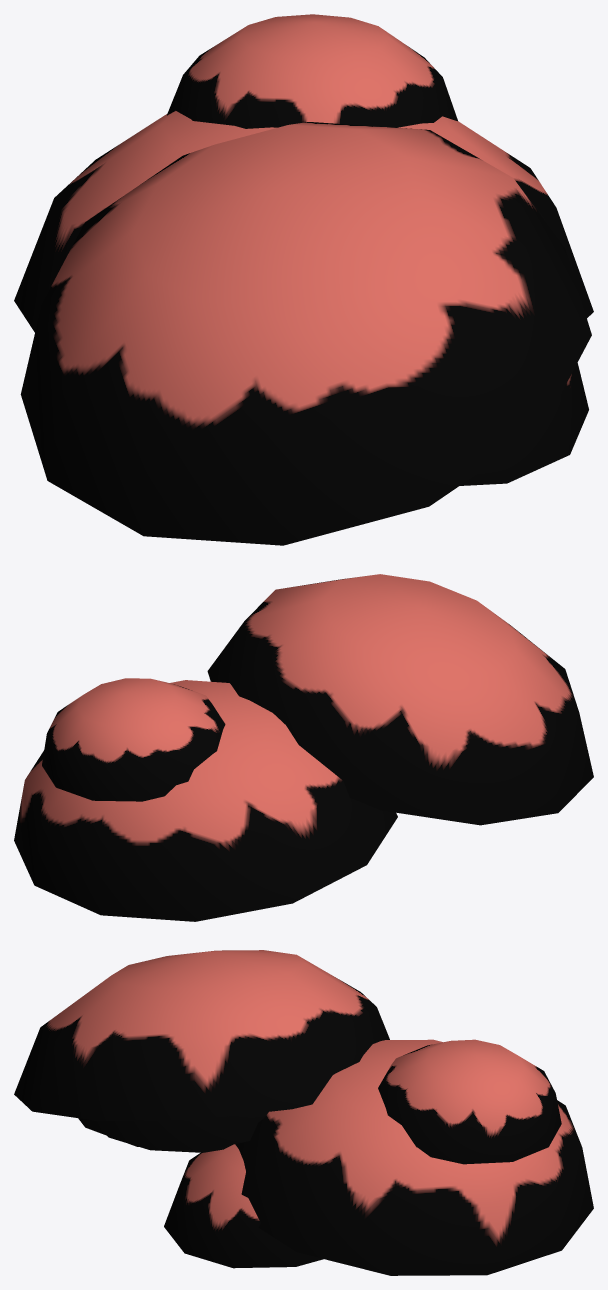
Rendered from SM_LeafTree02.fbx.
3 views of the same model, one above another, from view 1: azimuth 30°, elevation 25°; view 2: azimuth 150°, elevation 25°; view 3: azimuth 270°, elevation 25° (orthographic). The views are drawn at different scales.
Visible parts, largest first — view 1: Sphere014; view 2: Sphere014; view 3: Sphere014.
Part boxes in pixels (box(x1,y1,x2,y2)): Sphere014: box(14, 14, 593, 545); Sphere014: box(14, 574, 593, 921); Sphere014: box(14, 950, 593, 1275).
Bounding box in the file's own units: 1144 × 566 × 1347.
